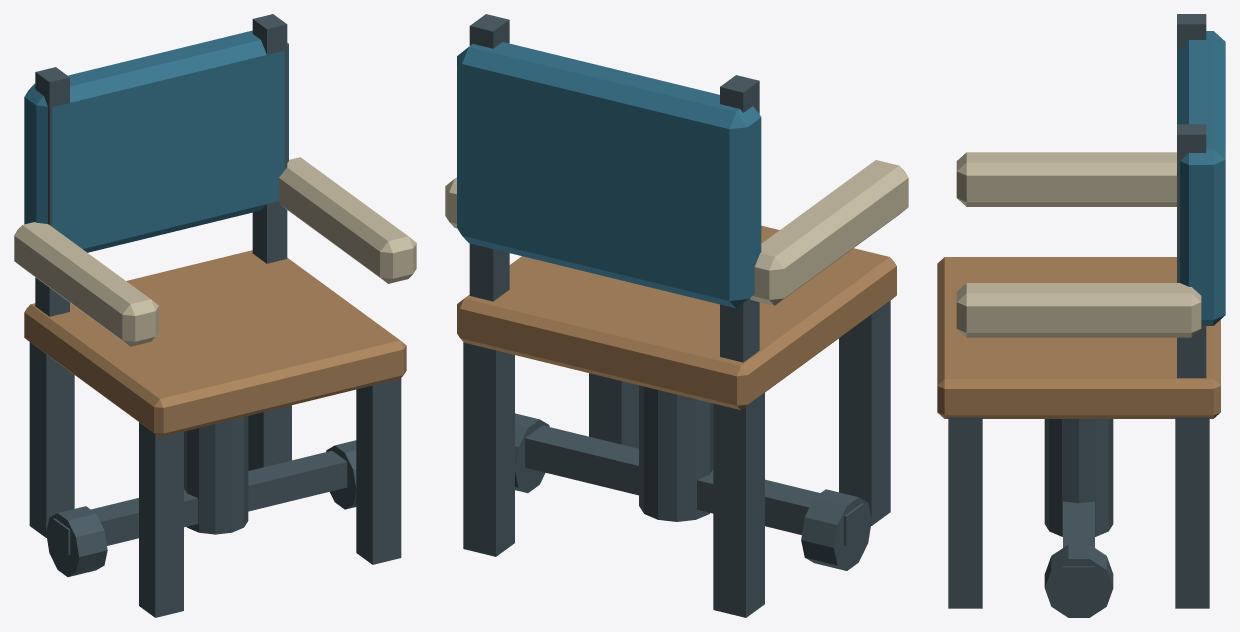
File: office_chair.glb
The picture shows the model from 3 angles, left to right: view 1: azimuth 30°, elevation 25°; view 2: azimuth 150°, elevation 25°; view 3: azimuth 270°, elevation 25°; orthographic projection. The views are drawn at different scales.
Parts seen in each view (by area): view 1: office_chair; view 2: office_chair; view 3: office_chair.
Boxes of the visible parts, box(x1,y1,x2,y2) form: office_chair: box(14, 14, 416, 617); office_chair: box(445, 14, 908, 617); office_chair: box(937, 14, 1225, 617).
Bounding box in the file's own units: 0.76 × 1.06 × 0.59.
